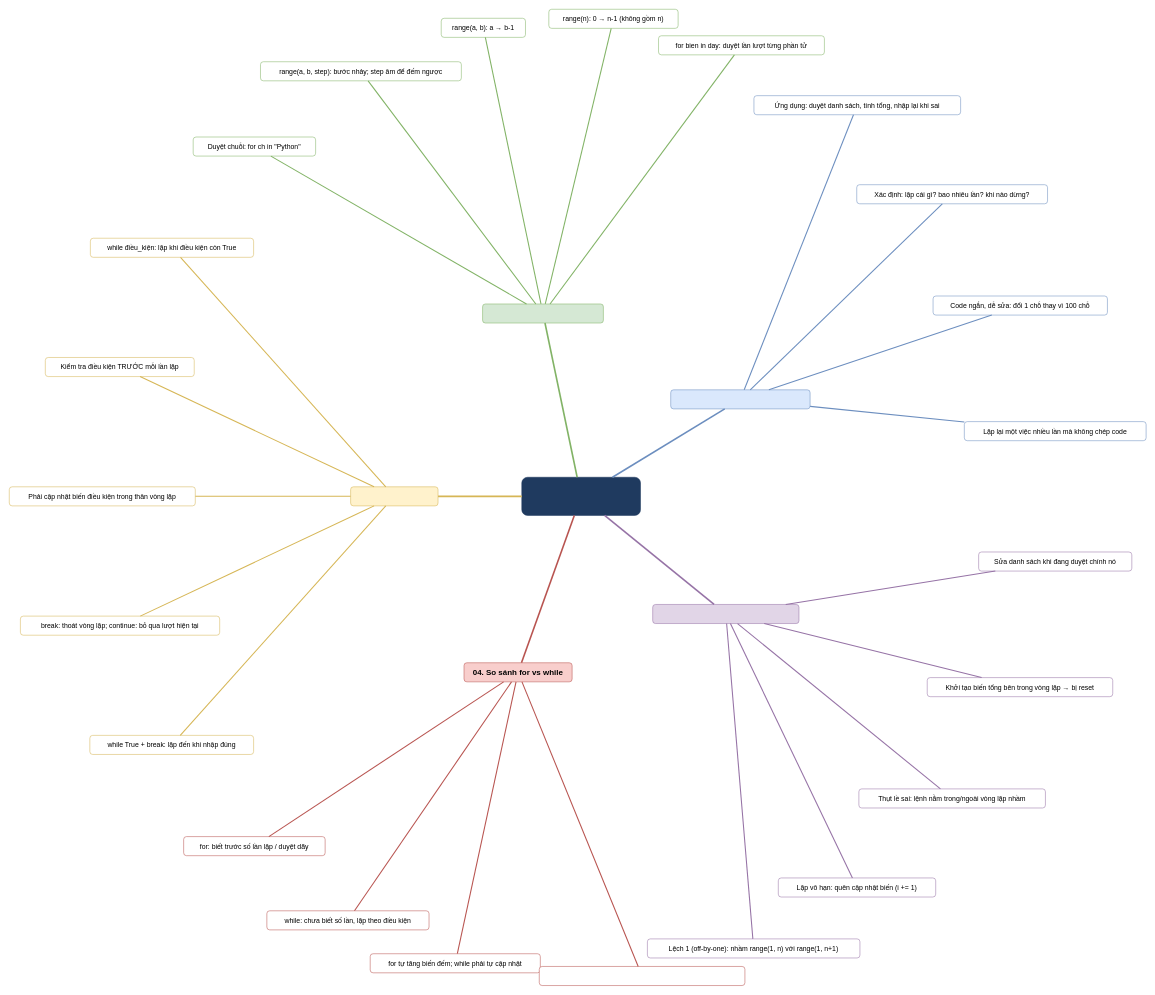
Image size: 1155x995. Some labels were removed from this diagram. Each missing label, with the centre of its shape:
01. Tư duy lặp (vì sao cần loop): the point at 740,399
02. Vòng lặp for và range(): the point at 542,313
03. Vòng lặp while: the point at 394,496
05. Lỗi thường gặp khi dùng loop: the point at 725,614
Mọi for đều viết được bằng while, chọn cái dễ đọc hơn: the point at 642,976
Python Session 3 Vòng lặp cơ bản: the point at 581,496
